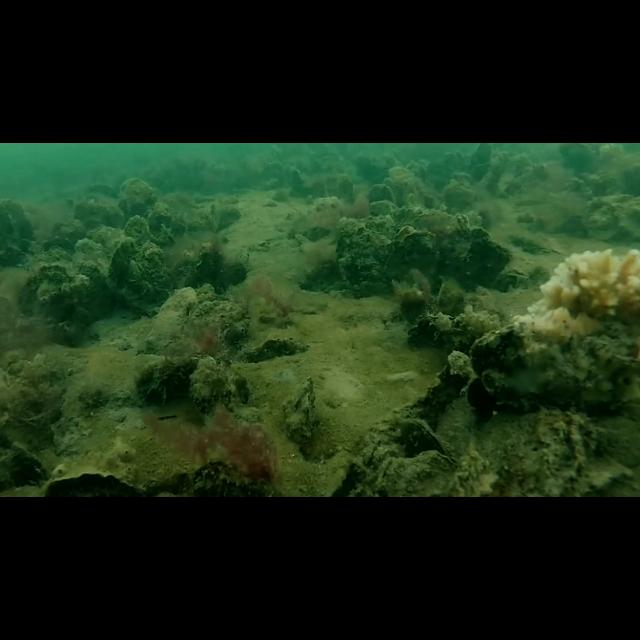Oyster-Closed: (472, 327, 552, 415), (334, 218, 386, 300), (145, 287, 199, 358), (175, 460, 272, 498), (22, 264, 70, 330), (433, 213, 471, 283), (288, 376, 318, 462), (187, 357, 236, 408), (0, 200, 36, 268), (466, 240, 512, 292), (406, 314, 459, 351), (77, 252, 113, 306), (122, 175, 158, 222), (141, 240, 169, 296), (110, 238, 140, 290), (194, 242, 223, 292), (170, 251, 198, 295), (145, 199, 173, 239), (122, 214, 150, 253)
Oyster-Open: (384, 226, 436, 284), (408, 419, 448, 459), (379, 184, 405, 210)
